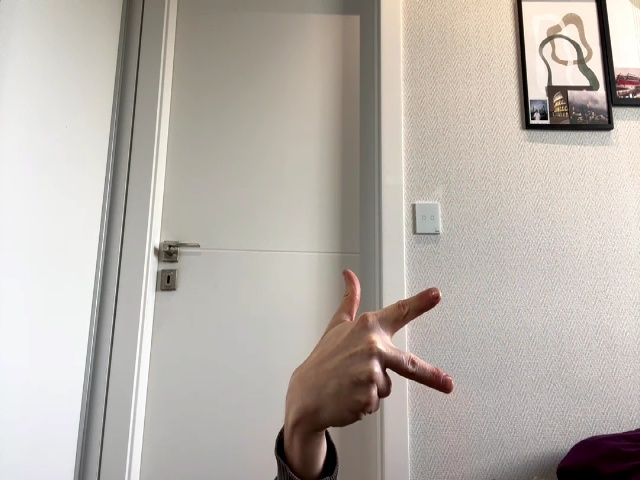K: (294, 269, 454, 433)
